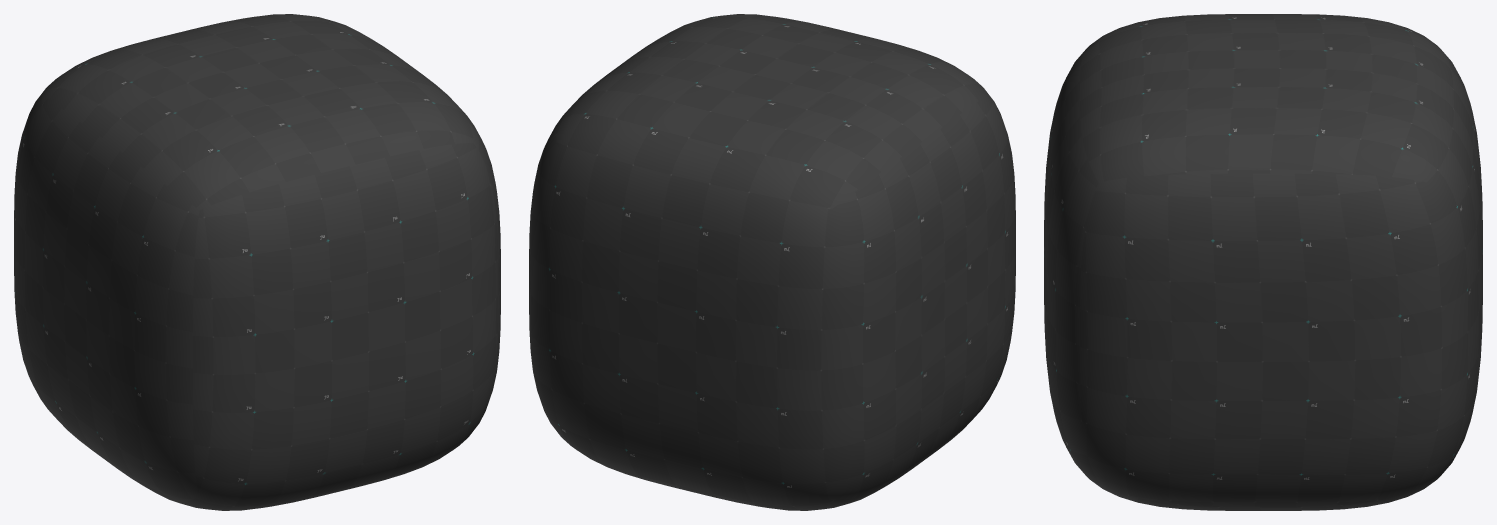
Rendered from backdrop.fbx.
3 views of the same model, side by side, from view 1: azimuth 30°, elevation 25°; view 2: azimuth 150°, elevation 25°; view 3: azimuth 270°, elevation 25° (orthographic). The views are drawn at different scales.
Parts seen in each view (by area): view 1: backdrop; view 2: backdrop; view 3: backdrop.
Part boxes in pixels (x1=…): backdrop: x1=14, y1=14, x2=500, y2=510; backdrop: x1=529, y1=14, x2=1015, y2=510; backdrop: x1=1044, y1=14, x2=1482, y2=510.
Bounding box in the file's own units: 955 × 955 × 955.
1 material, 1 textured.
